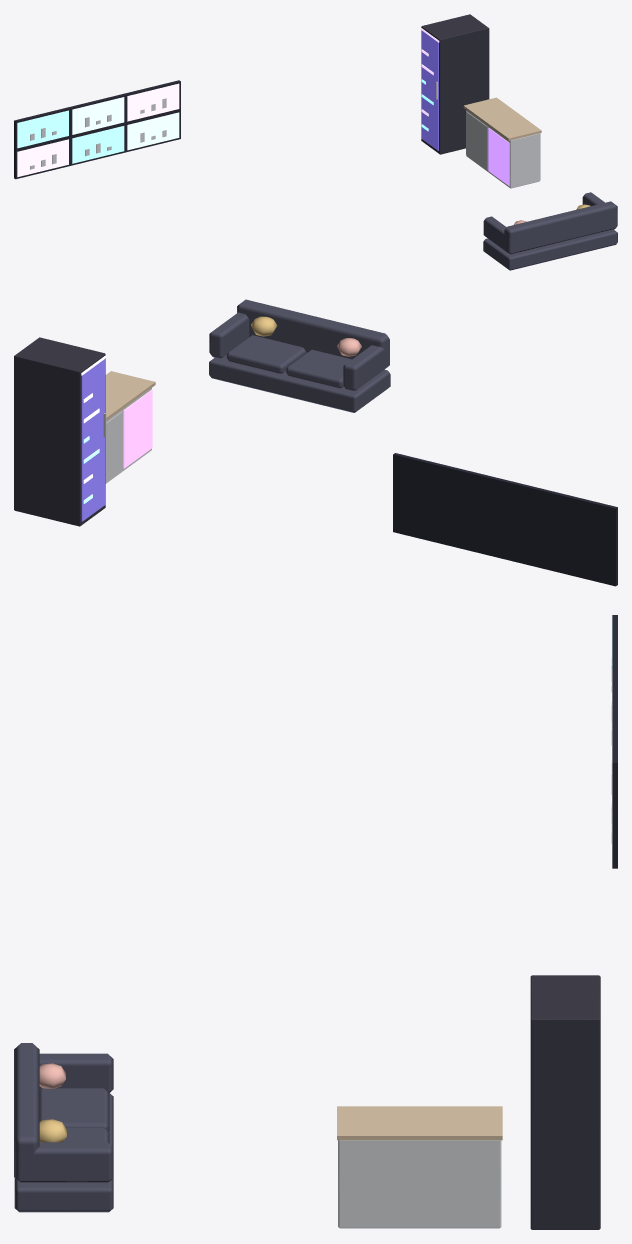
The model's file is einrichtung_kontrollraum_buehne.glb.
The picture shows the model from 3 angles, top to bottom: view 1: azimuth 30°, elevation 25°; view 2: azimuth 150°, elevation 25°; view 3: azimuth 270°, elevation 25°; orthographic projection. The views are drawn at different scales.
Parts seen in each view (by area): view 1: einrichtung_kontrollraum_buehne; view 2: einrichtung_kontrollraum_buehne; view 3: einrichtung_kontrollraum_buehne.
Part boxes in pixels (x1,y1,x2,y2): einrichtung_kontrollraum_buehne: [14, 14, 617, 270]; einrichtung_kontrollraum_buehne: [14, 299, 617, 586]; einrichtung_kontrollraum_buehne: [14, 615, 617, 1229].
Size of the model in its own units: 8.2 by 2 by 5.18.
